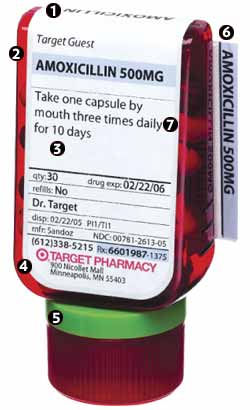pill bottle: (5, 2, 247, 410)
